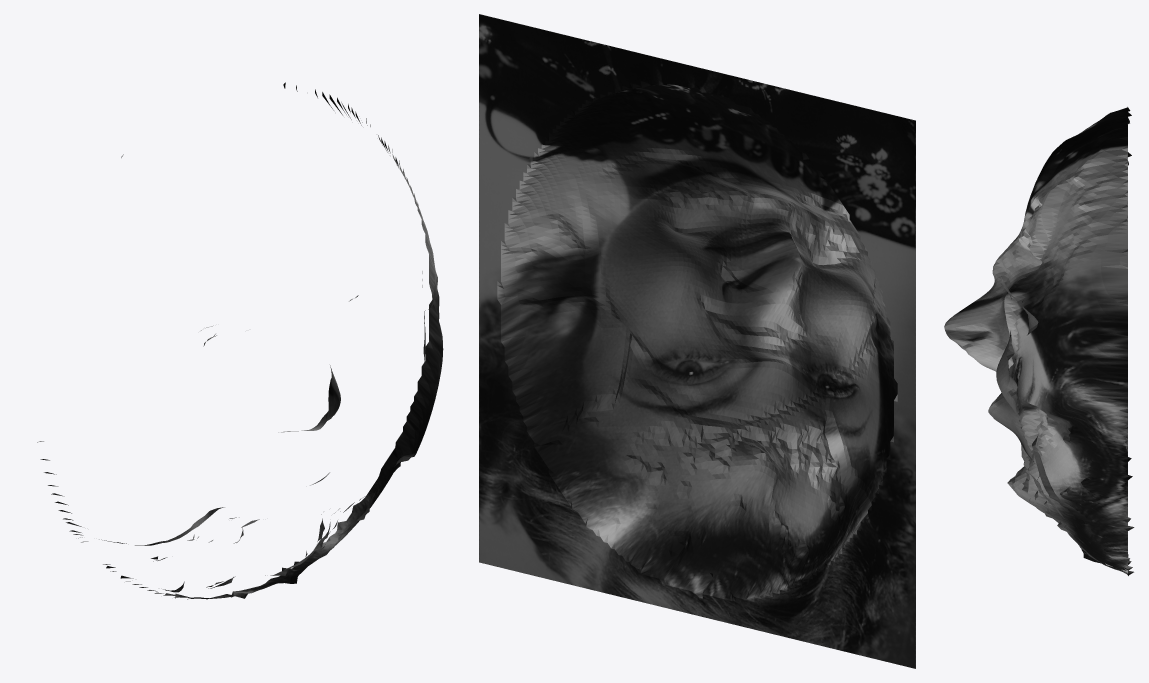
Rendered from myrna_loy_3d.glb.
3 views of the same model, side by side, from view 1: azimuth 30°, elevation 25°; view 2: azimuth 150°, elevation 25°; view 3: azimuth 270°, elevation 25° (orthographic). The views are drawn at different scales.
Visible parts, largest first — view 1: geometry_0; view 2: geometry_0; view 3: geometry_0.
Part boxes in pixels (box(x1,y1,x2,y2)): geometry_0: box(37, 82, 443, 599); geometry_0: box(479, 14, 915, 668); geometry_0: box(944, 107, 1134, 575).
Bounding box in the file's own units: 2 × 2.4 × 0.8798.
1 material, 1 textured.
